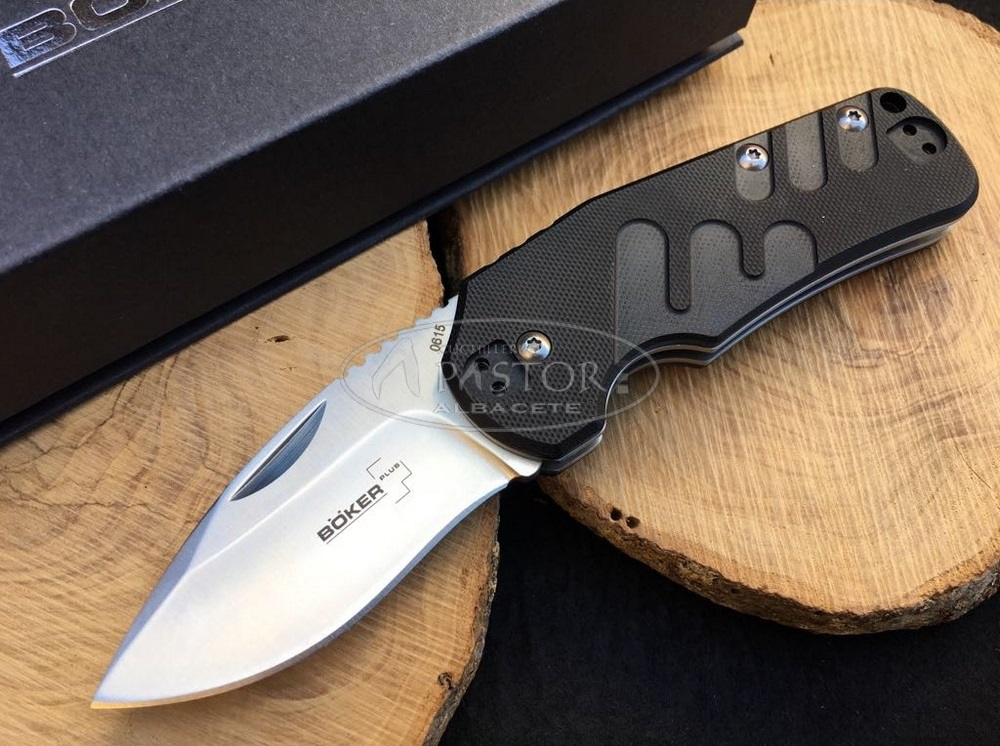knife: (70, 284, 569, 713)
